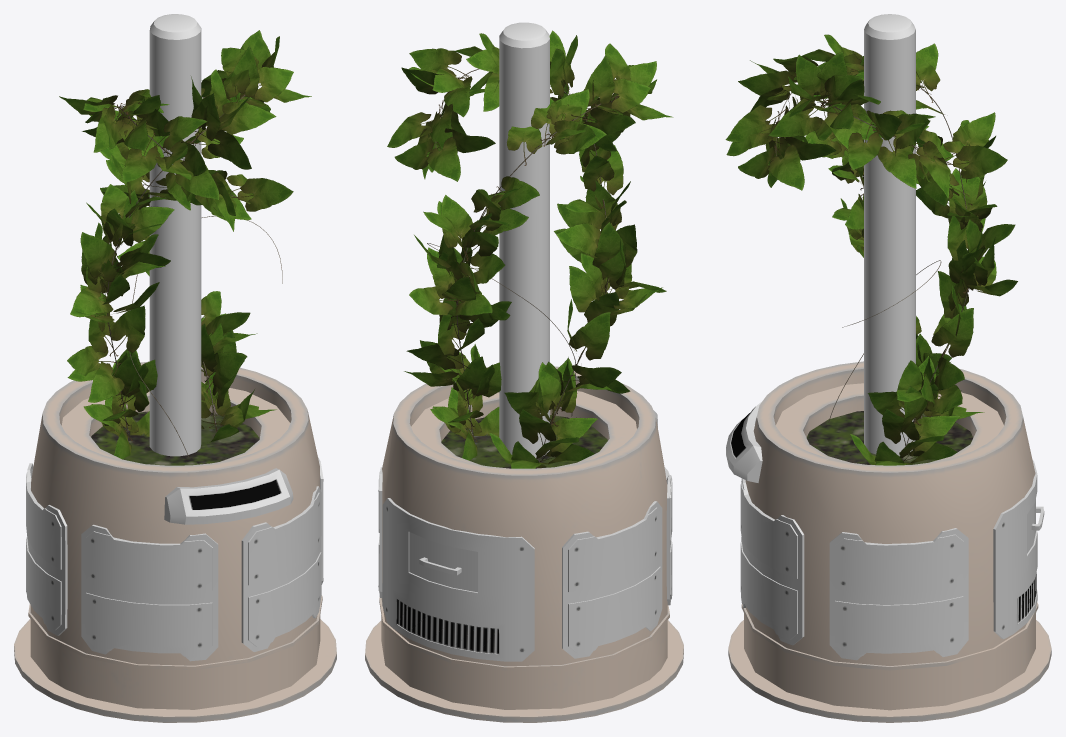
The model's file is outdoorlamp.fbx.
The picture shows the model from 3 angles, left to right: view 1: azimuth 30°, elevation 25°; view 2: azimuth 150°, elevation 25°; view 3: azimuth 270°, elevation 25°; orthographic projection.
Parts seen in each view (by area): view 1: Potted_Plant1; view 2: Potted_Plant1; view 3: Potted_Plant1.
Part boxes in pixels (x1,y1,x2,y2): Potted_Plant1: (14,14,336,722); Potted_Plant1: (365,22,683,722); Potted_Plant1: (725,14,1051,722).
Bounding box in the file's own units: 111 × 239 × 116.
4 materials, 3 textured.
